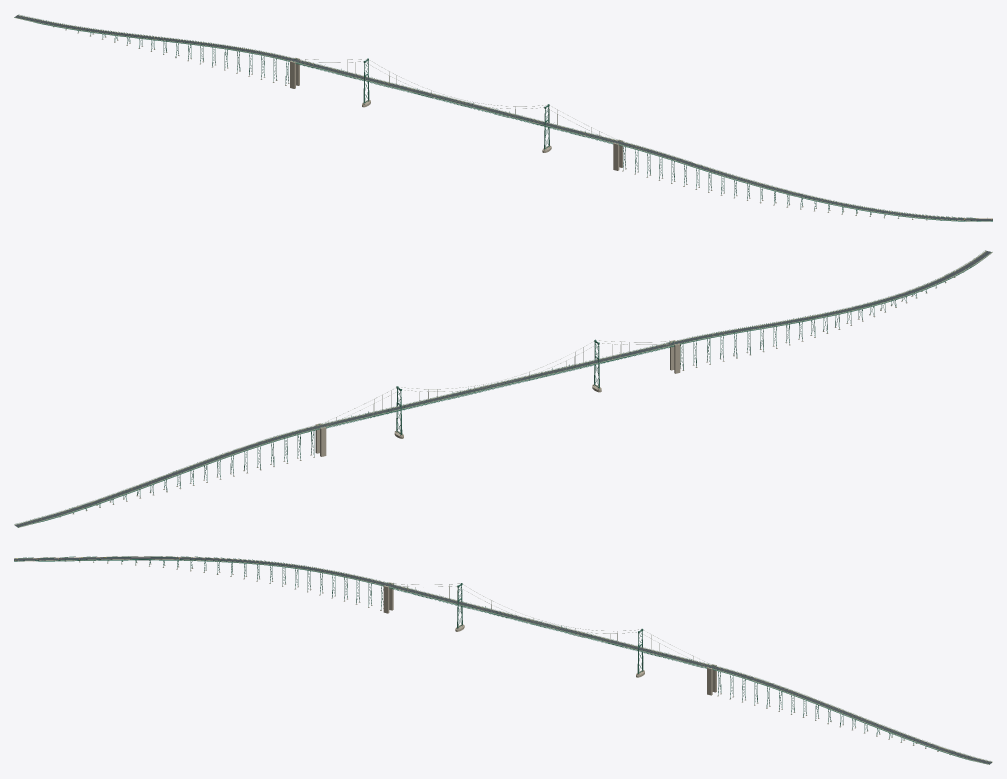
File: lions-gate-bridge-near.glb
3 views of the same model, one above another, from view 1: azimuth 90°, elevation 25°; view 2: azimuth 150°, elevation 25°; view 3: azimuth 270°, elevation 25° (orthographic). The views are drawn at different scales.
Visible parts, largest first — view 1: lions-gate-bridge-0-steel, lions-gate-bridge-1-steel, lions-gate-bridge-2-steel, lions-gate-bridge-1-concrete, lions-gate-bridge-2-concrete, lions-gate-bridge-0-asphalt, lions-gate-bridge-0-concrete, lions-gate-bridge-1-asphalt, lions-gate-bridge-2-asphalt; view 2: lions-gate-bridge-2-steel, lions-gate-bridge-1-steel, lions-gate-bridge-0-steel, lions-gate-bridge-2-concrete, lions-gate-bridge-1-concrete, lions-gate-bridge-2-asphalt, lions-gate-bridge-1-asphalt, lions-gate-bridge-0-asphalt, lions-gate-bridge-0-concrete; view 3: lions-gate-bridge-2-steel, lions-gate-bridge-0-steel, lions-gate-bridge-1-steel, lions-gate-bridge-2-concrete, lions-gate-bridge-1-concrete, lions-gate-bridge-2-asphalt, lions-gate-bridge-1-asphalt, lions-gate-bridge-0-asphalt, lions-gate-bridge-0-concrete.
Boxes of the visible parts, x1,y1,x2,y2 form: lions-gate-bridge-0-steel: (644,149,992,221); lions-gate-bridge-1-steel: (329,58,647,173); lions-gate-bridge-2-steel: (14,14,331,84); lions-gate-bridge-1-concrete: (330,68,648,174); lions-gate-bridge-2-concrete: (14,15,332,88); lions-gate-bridge-0-asphalt: (646,149,992,220); lions-gate-bridge-0-concrete: (645,149,992,221); lions-gate-bridge-1-asphalt: (331,69,647,150); lions-gate-bridge-2-asphalt: (15,15,331,70); lions-gate-bridge-2-steel: (14,415,362,527); lions-gate-bridge-1-steel: (359,334,708,434); lions-gate-bridge-0-steel: (705,250,991,363); lions-gate-bridge-2-concrete: (14,415,362,527); lions-gate-bridge-1-concrete: (359,335,707,438); lions-gate-bridge-2-asphalt: (15,416,361,526); lions-gate-bridge-1-asphalt: (360,335,706,417); lions-gate-bridge-0-asphalt: (705,251,990,337); lions-gate-bridge-0-concrete: (705,250,992,364); lions-gate-bridge-2-steel: (673,656,991,764); lions-gate-bridge-0-steel: (14,556,360,603); lions-gate-bridge-1-steel: (358,577,675,673); lions-gate-bridge-2-concrete: (674,656,992,764); lions-gate-bridge-1-concrete: (358,577,676,677); lions-gate-bridge-2-asphalt: (675,657,991,763); lions-gate-bridge-1-asphalt: (359,577,676,658); lions-gate-bridge-0-asphalt: (14,557,360,578); lions-gate-bridge-0-concrete: (14,556,361,604).
Size of the model in its own units: 1099 by 111 by 2199.
